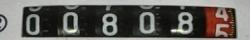digits: (61, 11, 79, 34), (138, 11, 155, 34), (101, 13, 118, 35), (177, 12, 194, 34), (25, 13, 40, 34), (216, 23, 230, 40)
